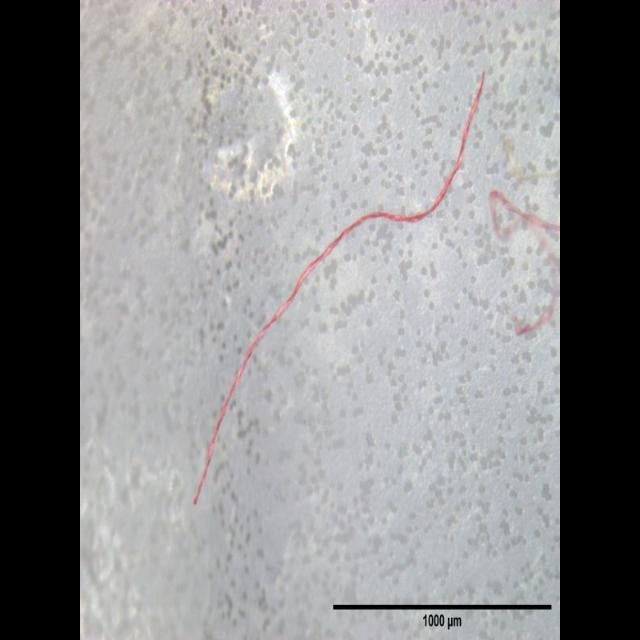Fibre: (191, 67, 485, 505)
